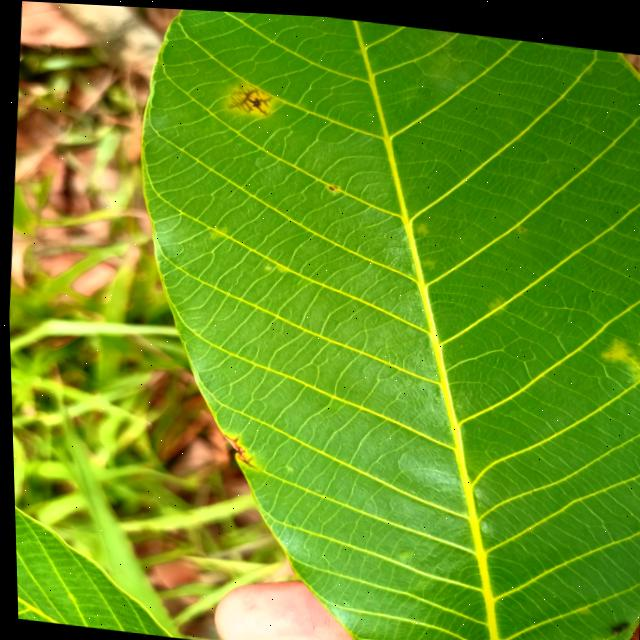Corynespora: (226, 79, 275, 114)
